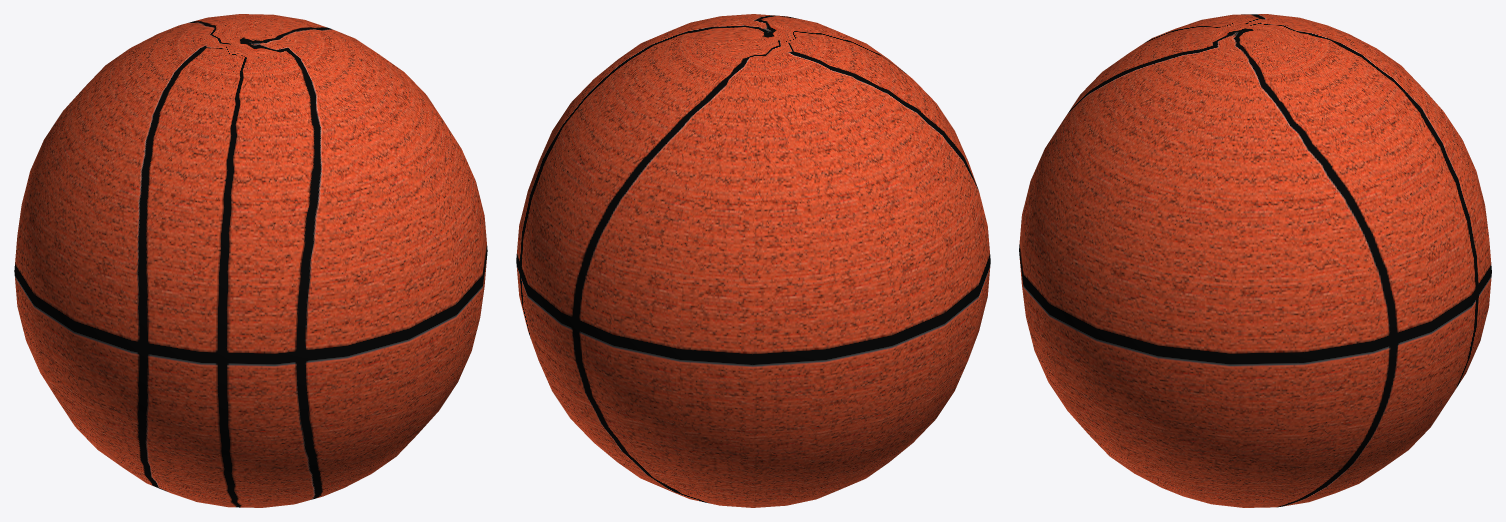
Rendered from BastekBall.fbx.
3 renders of one model, left to right at view 1: azimuth 30°, elevation 25°; view 2: azimuth 150°, elevation 25°; view 3: azimuth 270°, elevation 25°, orthographic.
Parts seen in each view (by area): view 1: pSphere14; view 2: pSphere14; view 3: pSphere14.
Boxes of the visible parts, x1,y1,x2,y2 form: pSphere14: (14,14,487,507); pSphere14: (516,14,990,507); pSphere14: (1019,14,1491,507).
Size of the model in its own units: 8.12 by 8.62 by 8.13.
